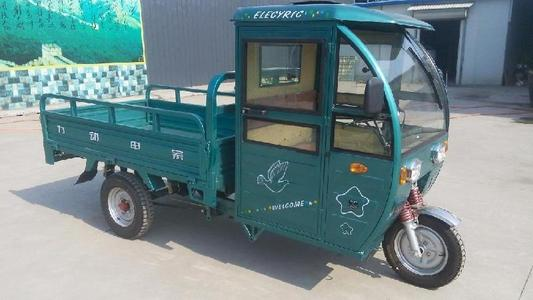tricycle: (34, 9, 474, 284)
